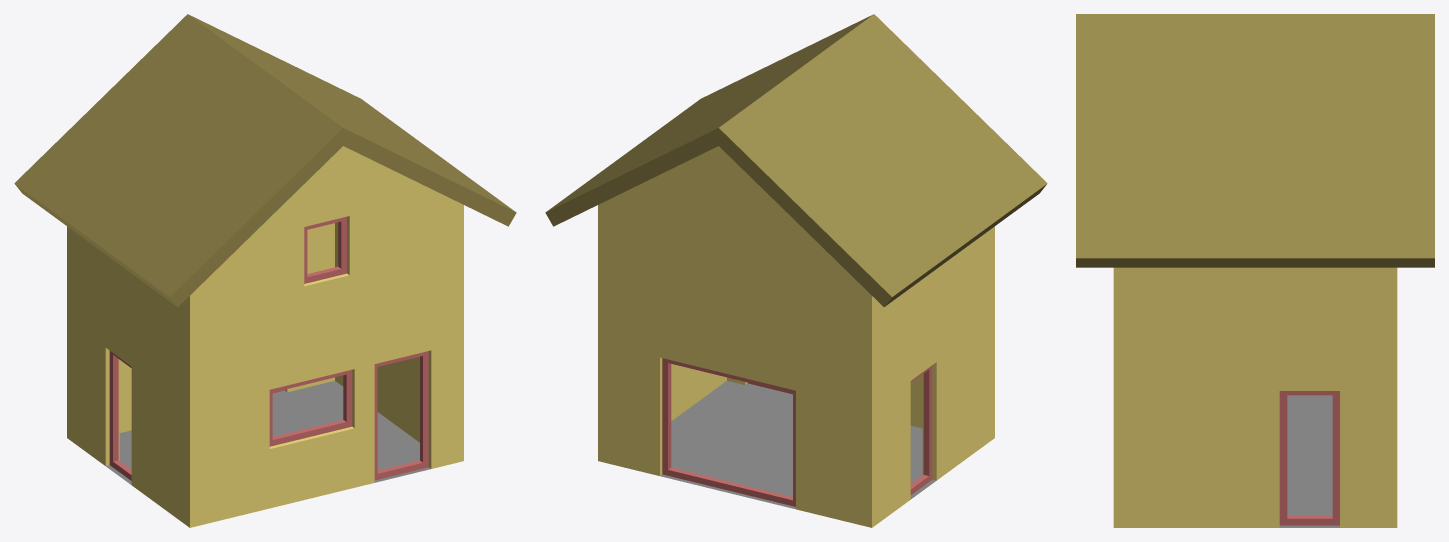
File: result.glb
3 views of the same model, side by side, from view 1: azimuth 30°, elevation 25°; view 2: azimuth 150°, elevation 25°; view 3: azimuth 270°, elevation 25° (orthographic). The views are drawn at different scales.
Visible parts, largest first — view 1: 83b91fb0-cc75-42b8-8f9f-3f6681a99110__undefined, bbedae8b-4a65-4fc4-b1a6-9d8bd64e0071__undefined (×2), ab301e6f-6262-498b-928e-e18fd9cbc971__Plane_8, 8863ef28-94ca-40bc-bd25-9a9959fc0a8e__Box, 60588ec8-794a-480a-b84d-e533f7cd6246__Box_3, 1aaddec0-7481-46c8-b3ab-9727529787ff__Box_12, 750f4f46-d79b-4e86-ae0e-479d2139b58a__Box_6; view 2: 83b91fb0-cc75-42b8-8f9f-3f6681a99110__undefined, bbedae8b-4a65-4fc4-b1a6-9d8bd64e0071__undefined (×2), ab301e6f-6262-498b-928e-e18fd9cbc971__Plane_8, 03dabab6-58eb-4643-8e52-b8feb5a054d0__Box_9, 1aaddec0-7481-46c8-b3ab-9727529787ff__Box_12; view 3: bbedae8b-4a65-4fc4-b1a6-9d8bd64e0071__undefined, 83b91fb0-cc75-42b8-8f9f-3f6681a99110__undefined, ab301e6f-6262-498b-928e-e18fd9cbc971__Plane_8, dca97f98-04d8-42ba-a55b-167d8d453a4d__Box_18.
Boxes of the visible parts, box(x1,y1,x2,y2) form: 83b91fb0-cc75-42b8-8f9f-3f6681a99110__undefined: box(67, 146, 463, 527); bbedae8b-4a65-4fc4-b1a6-9d8bd64e0071__undefined (×2): box(14, 14, 516, 306); ab301e6f-6262-498b-928e-e18fd9cbc971__Plane_8: box(106, 381, 430, 484); 8863ef28-94ca-40bc-bd25-9a9959fc0a8e__Box: box(374, 351, 428, 480); 60588ec8-794a-480a-b84d-e533f7cd6246__Box_3: box(269, 370, 352, 446); 1aaddec0-7481-46c8-b3ab-9727529787ff__Box_12: box(109, 351, 131, 480); 750f4f46-d79b-4e86-ae0e-479d2139b58a__Box_6: box(304, 216, 346, 283); 83b91fb0-cc75-42b8-8f9f-3f6681a99110__undefined: box(598, 146, 994, 527); bbedae8b-4a65-4fc4-b1a6-9d8bd64e0071__undefined (×2): box(545, 14, 1047, 306); ab301e6f-6262-498b-928e-e18fd9cbc971__Plane_8: box(660, 381, 936, 509); 03dabab6-58eb-4643-8e52-b8feb5a054d0__Box_9: box(662, 358, 795, 506); 1aaddec0-7481-46c8-b3ab-9727529787ff__Box_12: box(910, 365, 932, 494); bbedae8b-4a65-4fc4-b1a6-9d8bd64e0071__undefined: box(1076, 14, 1434, 267); 83b91fb0-cc75-42b8-8f9f-3f6681a99110__undefined: box(1113, 267, 1397, 527); ab301e6f-6262-498b-928e-e18fd9cbc971__Plane_8: box(1279, 395, 1339, 527); dca97f98-04d8-42ba-a55b-167d8d453a4d__Box_18: box(1279, 391, 1339, 525).
Size of the model in its own units: 612 by 638 by 475.
